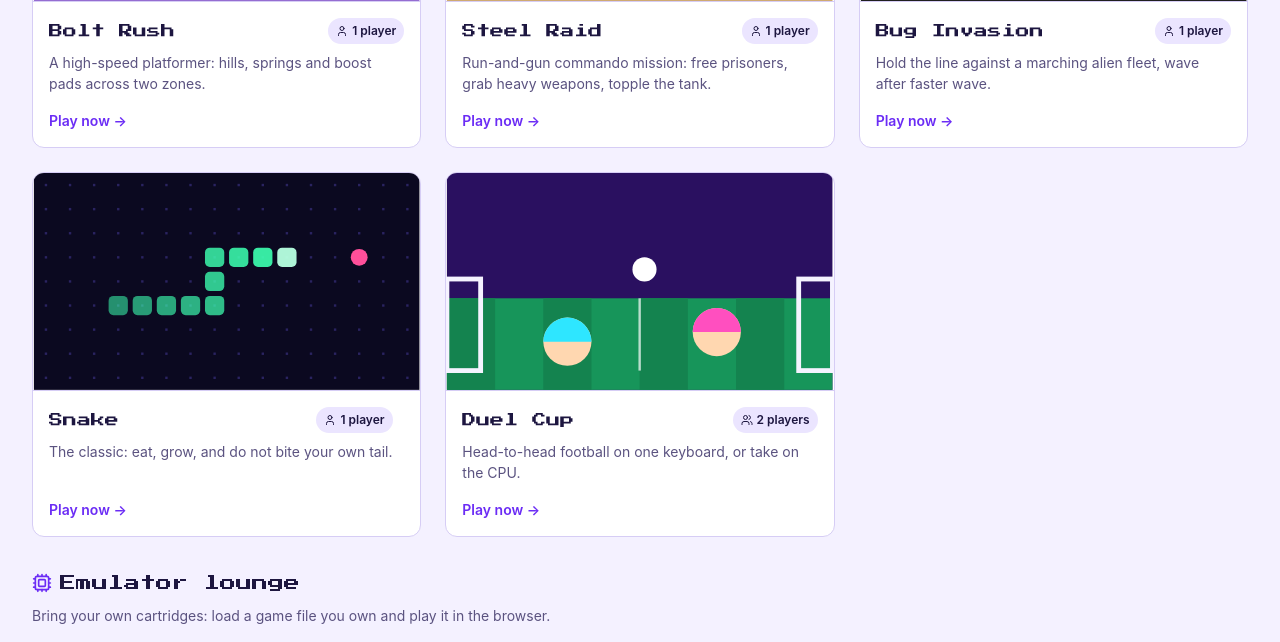
Test: App › shows no leaderboard for the two-player game
This screenshot has width=1280, height=642.
(page scrolled)
Click the button "Duel Cup" at (640, 354), box [445,172,835,537]
(page scrolled)
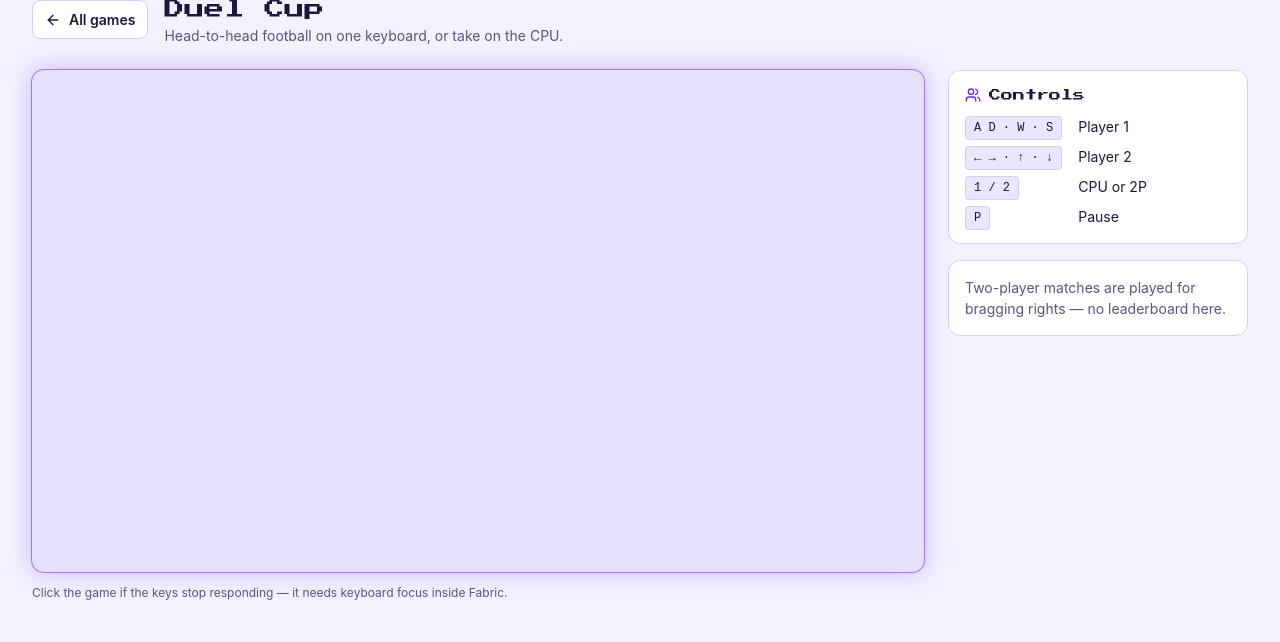
Expected: the text "bragging rights" is shown, [965,279,1226,317]
